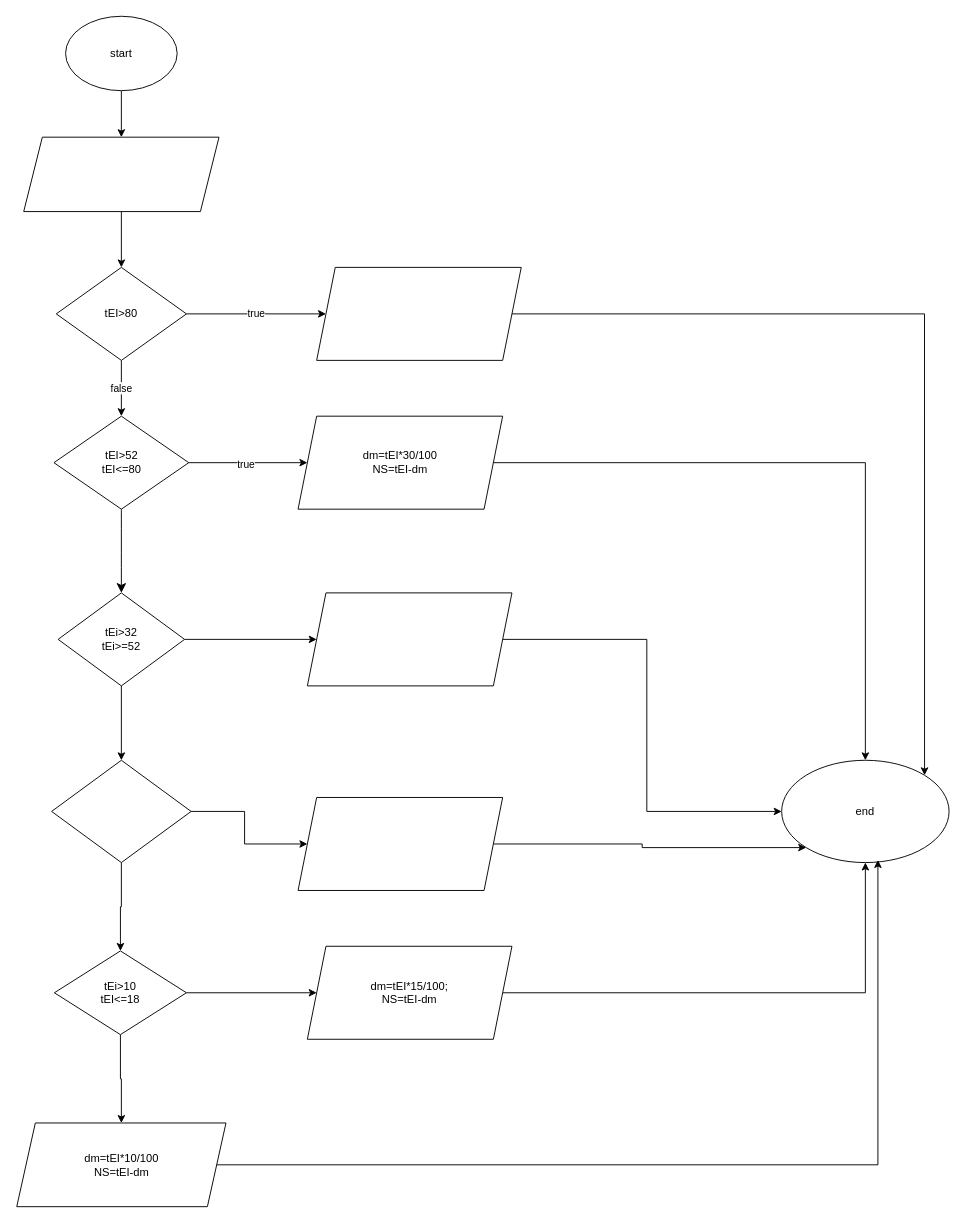
This 965x1223 diagram has some shape labels left out. Here are the shapes that lost their labels. From the top down, the centre of each, then its label:
At (x=121, y=174): "NS,tEI,dm".
At (x=418, y=313): "dm=tEI*35/100 NS=tEI-dm".
At (x=409, y=639): "dm=tEI*25/100 NS=tEI-dm".
At (x=121, y=811): "tEI>18 tEI<=32".
At (x=400, y=843): "dm=tEI*20/100 NS=tEI-dm".
